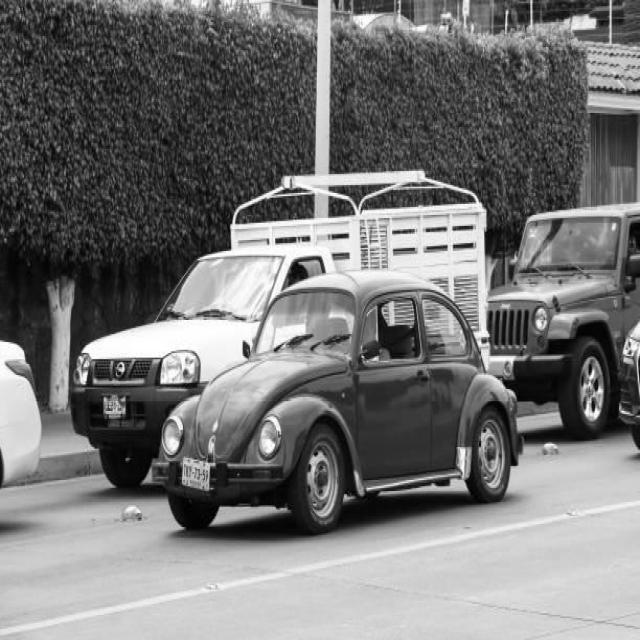car: (62, 248, 482, 472), (148, 271, 525, 513), (488, 216, 640, 424)
